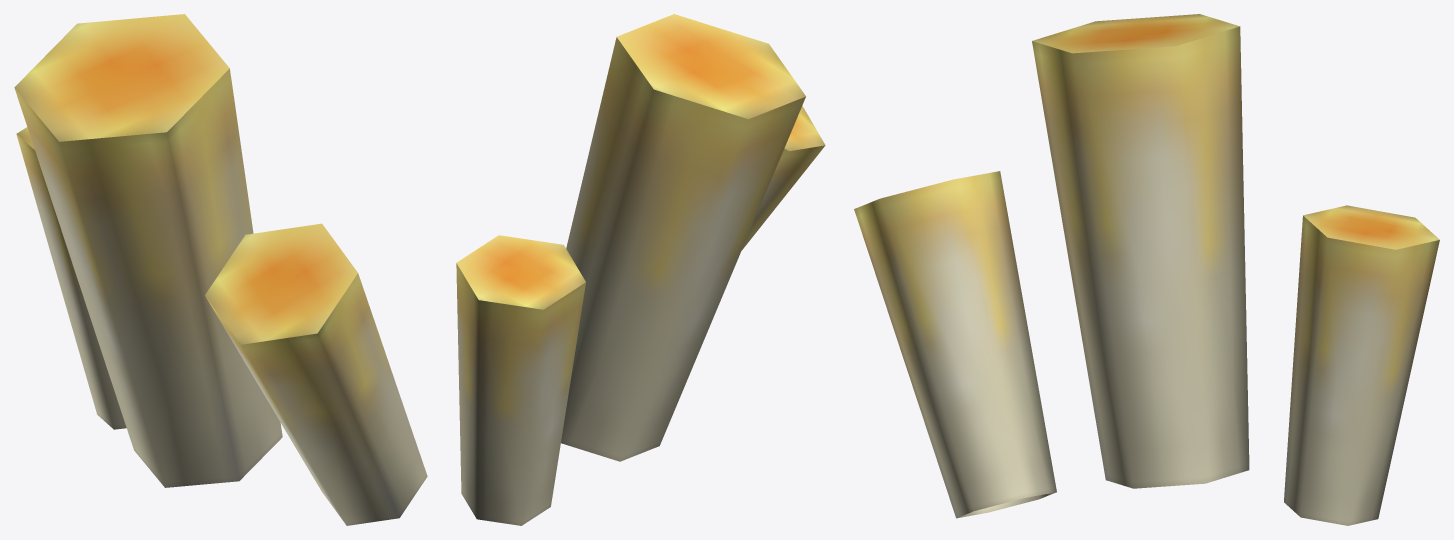
Rendered from Area06_27.fbx.
The picture shows the model from 3 angles, left to right: view 1: azimuth 30°, elevation 25°; view 2: azimuth 150°, elevation 25°; view 3: azimuth 270°, elevation 25°; orthographic projection. The views are drawn at different scales.
Parts seen in each view (by area): view 1: Area06_27; view 2: Area06_27; view 3: Area06_27.
Part boxes in pixels (<box>): Area06_27: <box>14,14,427,525</box>; Area06_27: <box>456,14,825,525</box>; Area06_27: <box>854,14,1439,525</box>.
Bounding box in the file's own units: 31.2 × 46.07 × 53.93.
